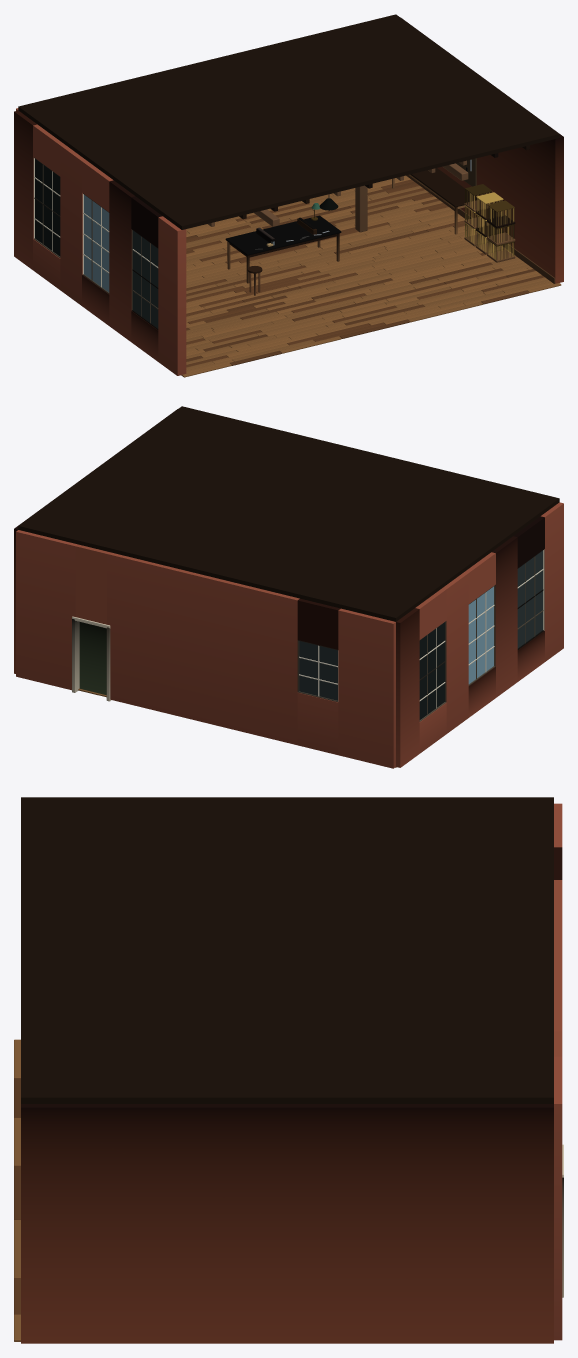
Rendered from lab.glb.
The picture shows the model from 3 angles, top to bottom: view 1: azimuth 30°, elevation 25°; view 2: azimuth 150°, elevation 25°; view 3: azimuth 270°, elevation 25°; orthographic projection. The views are drawn at different scales.
Visible parts, largest first — view 1: lab.plank.14, lab.plank.0, lab.brick.5, lab.plank.1, lab.brick.11, lab.glass.2, lab.plank.18, lab.brass.7, lab.plank.20, lab.paint.3, lab.bark.13, lab.plank.19 (+1 smaller); view 2: lab.brick.5, lab.plank.14, lab.glass.2, lab.paint.6, lab.paint.3, lab.paint.8, lab.paint.10, lab.brick.11; view 3: lab.plank.14, lab.brick.11, lab.brick.5, lab.plank.0, lab.plank.1.
Boxes of the visible parts, bbox=[...] form: lab.plank.14: bbox=[18, 14, 559, 229]; lab.plank.0: bbox=[181, 175, 561, 377]; lab.brick.5: bbox=[14, 108, 186, 375]; lab.plank.1: bbox=[186, 179, 544, 367]; lab.brick.11: bbox=[400, 17, 563, 283]; lab.glass.2: bbox=[35, 159, 158, 327]; lab.plank.18: bbox=[225, 168, 478, 255]; lab.brass.7: bbox=[465, 184, 514, 260]; lab.plank.20: bbox=[256, 200, 515, 262]; lab.paint.3: bbox=[33, 157, 158, 329]; lab.bark.13: bbox=[208, 145, 529, 232]; lab.plank.19: bbox=[227, 233, 339, 283]; lab.brick.5: bbox=[16, 502, 563, 768]; lab.plank.14: bbox=[18, 406, 559, 621]; lab.glass.2: bbox=[299, 550, 542, 719]; lab.paint.6: bbox=[79, 622, 106, 694]; lab.paint.3: bbox=[419, 549, 544, 721]; lab.paint.8: bbox=[72, 616, 111, 701]; lab.paint.10: bbox=[297, 640, 338, 701]; lab.brick.11: bbox=[14, 409, 177, 673]; lab.plank.14: bbox=[21, 797, 553, 1103]; lab.brick.11: bbox=[21, 1104, 553, 1343]; lab.brick.5: bbox=[554, 803, 562, 1340]; lab.plank.0: bbox=[14, 1039, 20, 1341]; lab.plank.1: bbox=[14, 1078, 20, 1314].
Size of the model in its own units: 12.28 by 4.57 by 9.29.
